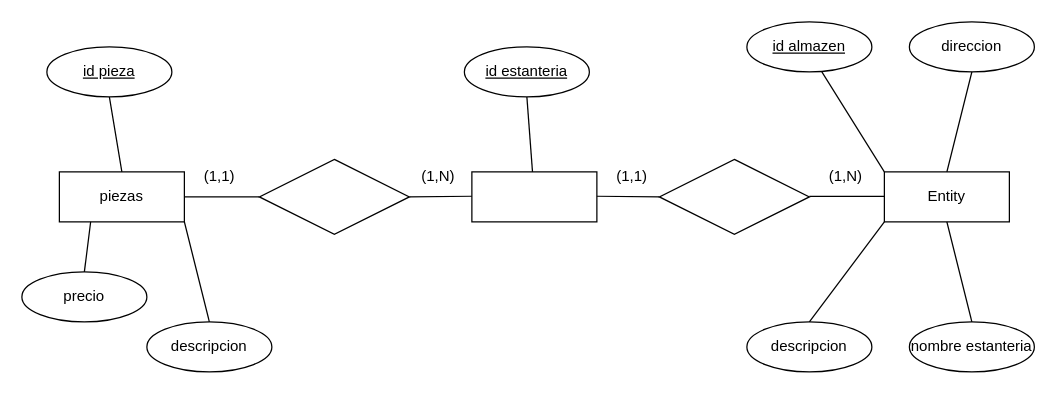
This 1056x394 diagram has some shape labels left out. Each missing label, with the centre of its shape:
"estanterias" goes at pixel 534 196.
"guardar" goes at pixel 333 196.
"tener" goes at pixel 733 196.
